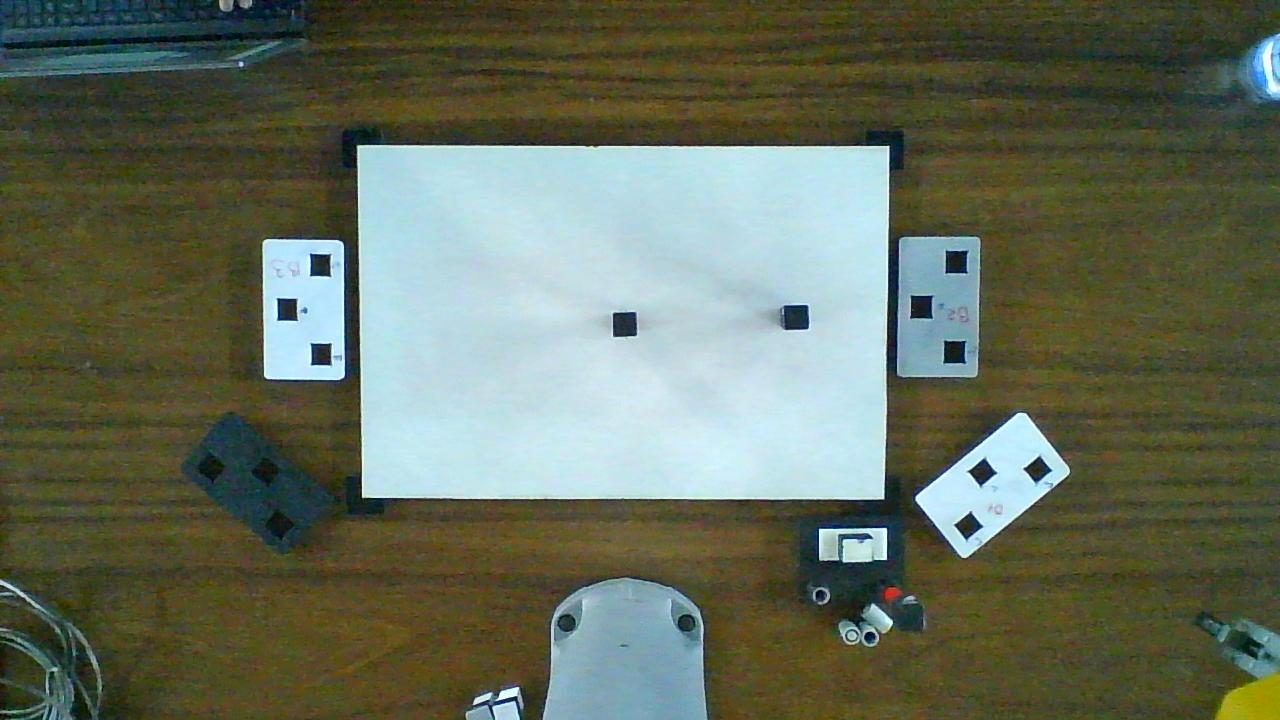peca_preta: (613, 313, 636, 336), (786, 306, 808, 330)
